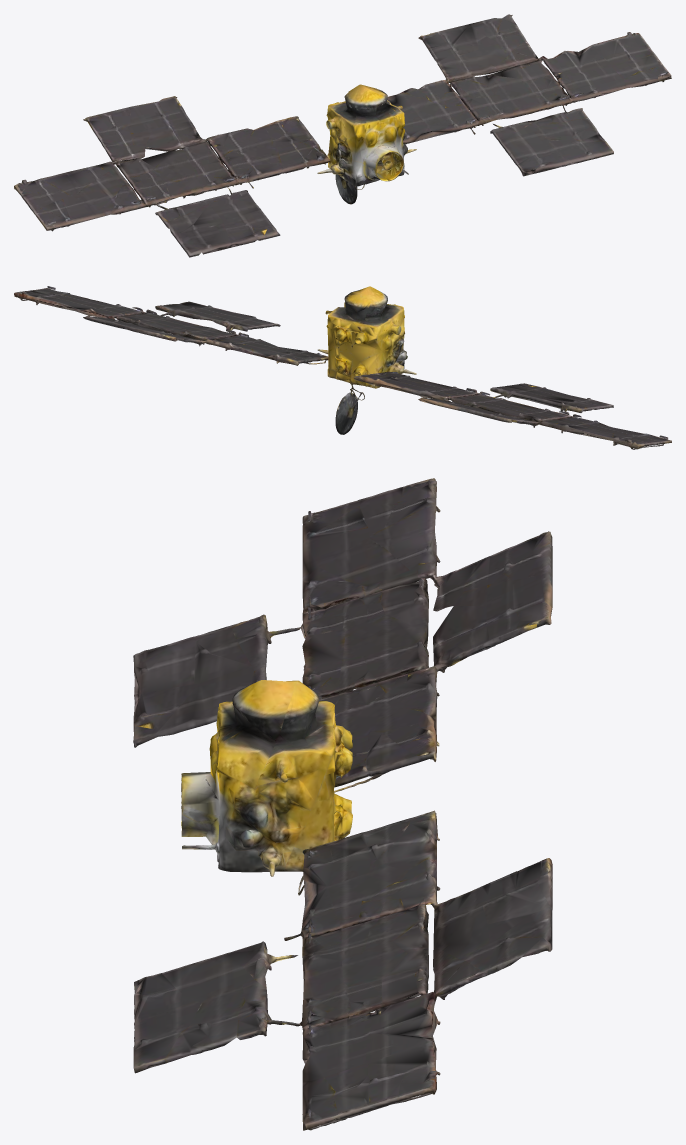
Rendered from zefero-low.glb.
The picture shows the model from 3 angles, top to bottom: view 1: azimuth 30°, elevation 25°; view 2: azimuth 150°, elevation 25°; view 3: azimuth 270°, elevation 25°; orthographic projection. The views are drawn at different scales.
Bounding box in the file's own units: 1.9 × 0.3776 × 0.5515.
Materials: 1 (1 with a texture image).
